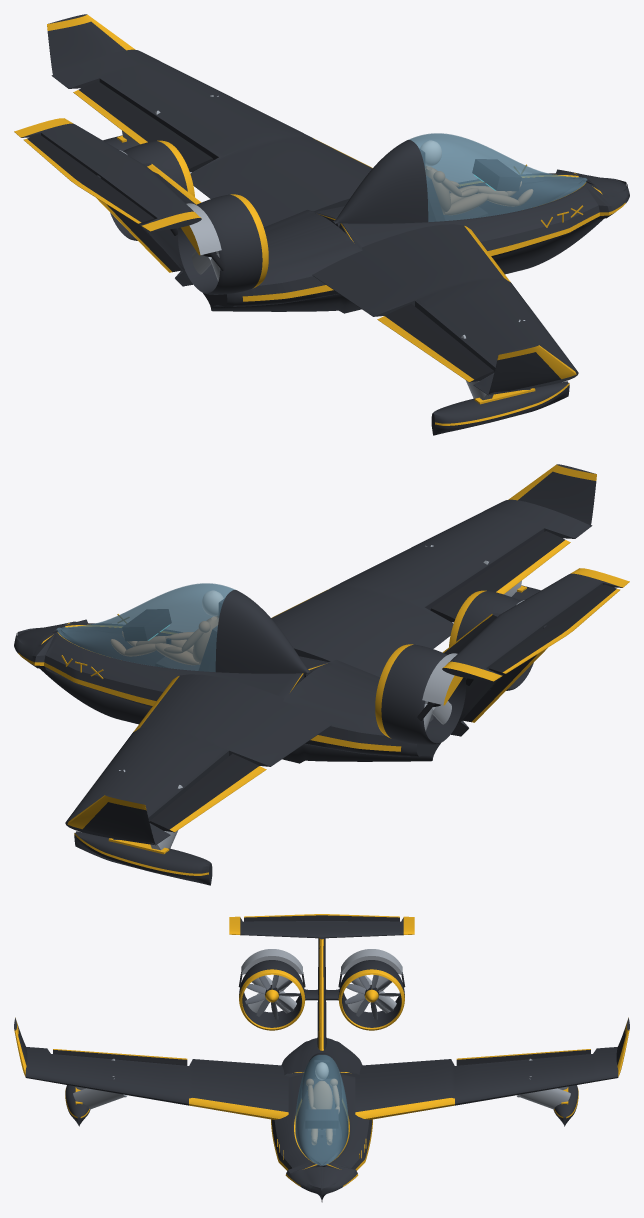
Rendered from A_continuous__upright_18.glb.
3 renders of one model, top to bottom at view 1: azimuth 30°, elevation 25°; view 2: azimuth 150°, elevation 25°; view 3: azimuth 270°, elevation 25°, orthographic. The views are drawn at different scales.
Visible parts, largest first — view 1: Ricochet_Wing_Port, Ricochet_ConceptA_Hull_Cabin, Ricochet_Wing_Stbd, Ricochet_Canopy_Glass, Ricochet_Tail_Pylon_T_Tail, Ricochet_Duct_Stbd, Ricochet_Aileron_Port, Ricochet_Aileron_Stbd, Ricochet_Sponson_Stbd, Ricochet_Winglet_Port, Ricochet_Winglet_Stbd, Ricochet_Elevator (+5 smaller); view 2: Ricochet_Wing_Stbd, Ricochet_ConceptA_Hull_Cabin, Ricochet_Wing_Port, Ricochet_Canopy_Glass, Ricochet_Tail_Pylon_T_Tail, Ricochet_Duct_Port, Ricochet_Aileron_Stbd, Ricochet_Aileron_Port, Ricochet_Sponson_Port, Ricochet_Winglet_Stbd, Ricochet_Winglet_Port, Ricochet_Elevator (+5 smaller); view 3: Ricochet_Wing_Port, Ricochet_Wing_Stbd, Ricochet_ConceptA_Hull_Cabin, Ricochet_Canopy_Glass, Ricochet_Tail_Pylon_T_Tail, Ricochet_Duct_Port, Ricochet_Duct_Stbd, Study_Pilot_Manikin, Ricochet_Elevator, Ricochet_Cockpit_Interior, Ricochet_Aileron_Port, Ricochet_Aileron_Stbd (+8 smaller).
Boxes of the visible parts, <box> form: Ricochet_Wing_Port: <box>51,49,372,227</box>; Ricochet_ConceptA_Hull_Cabin: <box>203,164,629,313</box>; Ricochet_Wing_Stbd: <box>312,224,578,395</box>; Ricochet_Canopy_Glass: <box>332,133,587,223</box>; Ricochet_Tail_Pylon_T_Tail: <box>14,118,201,286</box>; Ricochet_Duct_Stbd: <box>178,194,268,294</box>; Ricochet_Aileron_Port: <box>73,81,213,172</box>; Ricochet_Aileron_Stbd: <box>377,303,494,382</box>; Ricochet_Sponson_Stbd: <box>431,381,569,435</box>; Ricochet_Winglet_Port: <box>47,14,135,75</box>; Ricochet_Winglet_Stbd: <box>488,345,576,394</box>; Ricochet_Elevator: <box>23,134,154,223</box>; Ricochet_Wing_Stbd: <box>271,499,592,677</box>; Ricochet_ConceptA_Hull_Cabin: <box>14,614,440,763</box>; Ricochet_Wing_Port: <box>65,674,331,845</box>; Ricochet_Canopy_Glass: <box>56,583,311,673</box>; Ricochet_Tail_Pylon_T_Tail: <box>442,568,629,736</box>; Ricochet_Duct_Port: <box>375,644,465,744</box>; Ricochet_Aileron_Stbd: <box>430,531,570,622</box>; Ricochet_Aileron_Port: <box>149,753,266,832</box>; Ricochet_Sponson_Port: <box>74,831,212,885</box>; Ricochet_Winglet_Stbd: <box>508,464,596,525</box>; Ricochet_Winglet_Port: <box>67,795,155,844</box>; Ricochet_Elevator: <box>489,584,620,673</box>; Ricochet_Wing_Port: <box>355,1047,618,1119</box>; Ricochet_Wing_Stbd: <box>25,1047,288,1119</box>; Ricochet_ConceptA_Hull_Cabin: <box>271,1038,372,1202</box>; Ricochet_Canopy_Glass: <box>295,1053,348,1165</box>; Ricochet_Tail_Pylon_T_Tail: <box>229,916,414,1050</box>; Ricochet_Duct_Port: <box>338,960,404,1030</box>; Ricochet_Duct_Stbd: <box>239,960,305,1030</box>; Study_Pilot_Manikin: <box>306,1062,339,1144</box>; Ricochet_Elevator: <box>244,914,399,921</box>; Ricochet_Cockpit_Interior: <box>305,1060,338,1137</box>; Ricochet_Aileron_Port: <box>456,1049,590,1065</box>; Ricochet_Aileron_Stbd: <box>53,1049,187,1065</box>.
Bounding box in the file's own units: 6.78 × 2.34 × 9.64.
